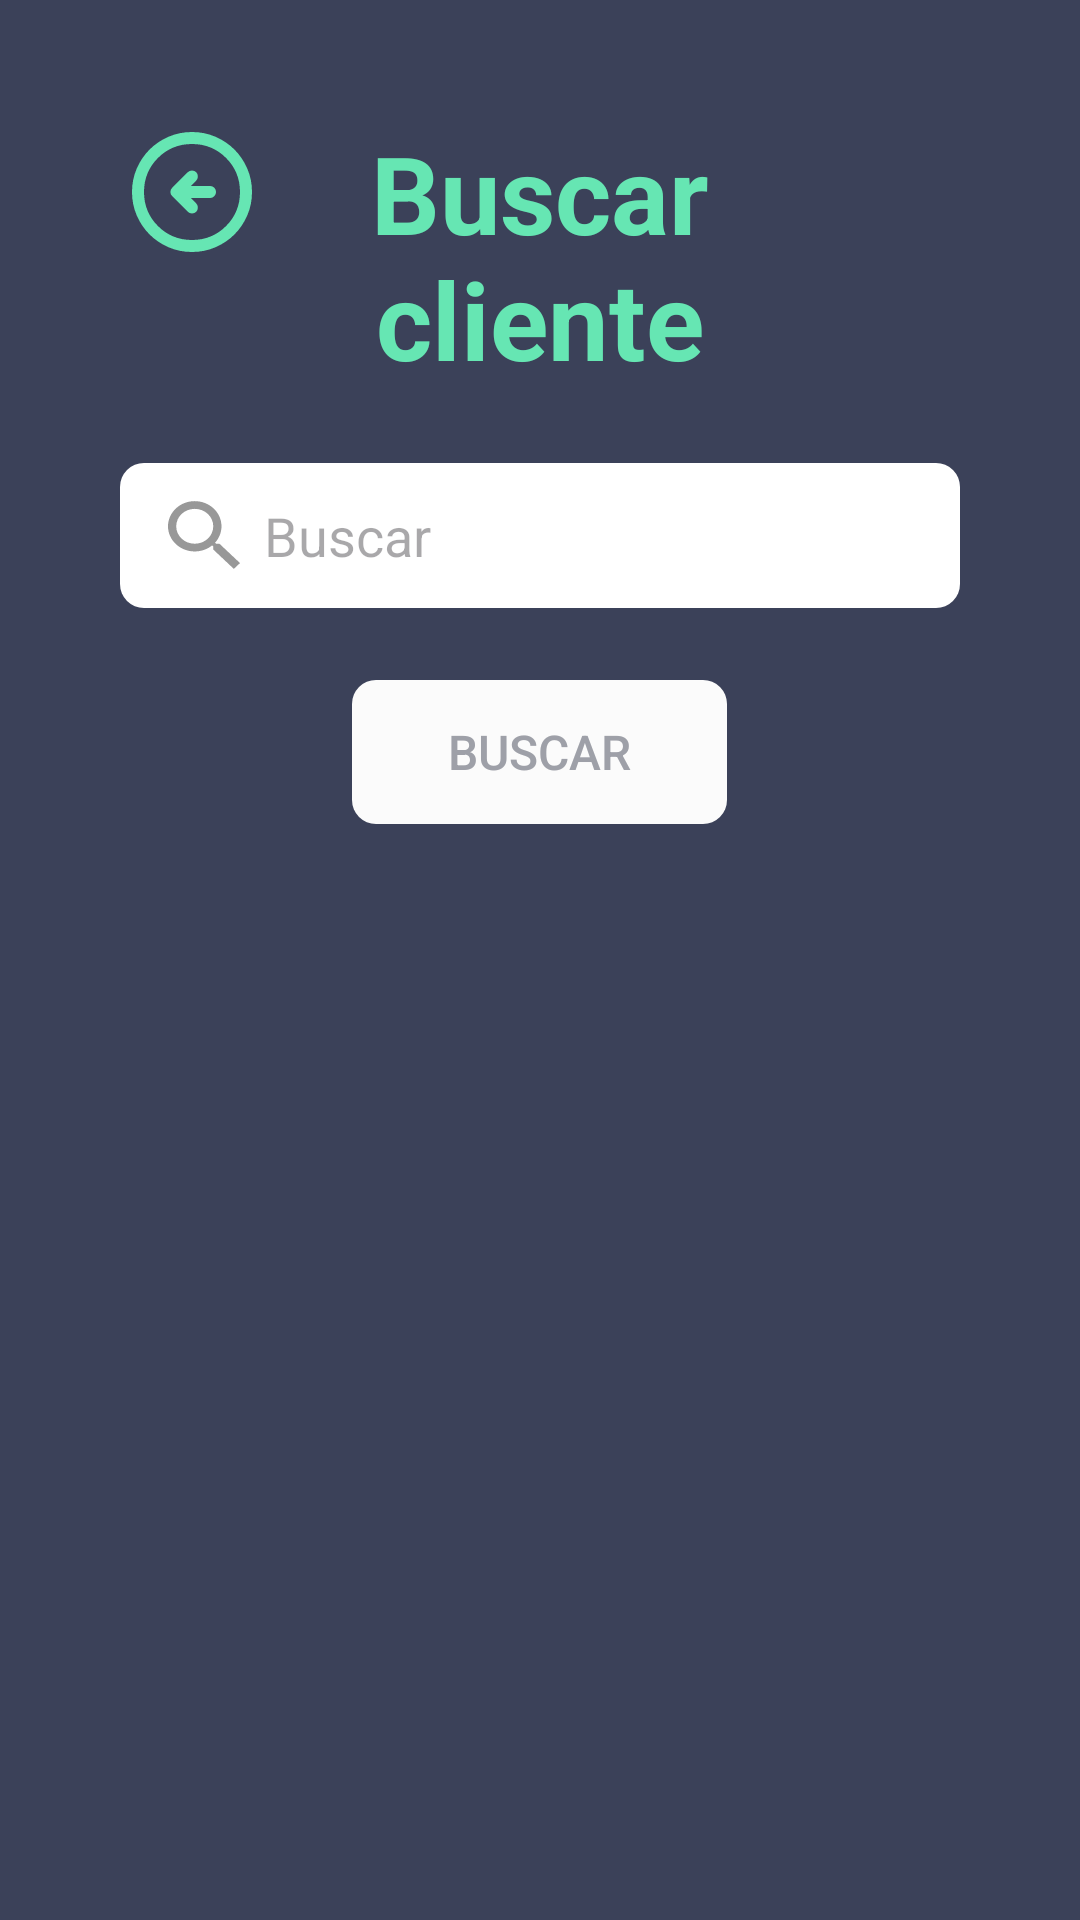

Named icons in this screenshot (1080*1920) and their bounding boxes, (x1, y1, x2, y2):
search: (168, 501, 240, 569)
